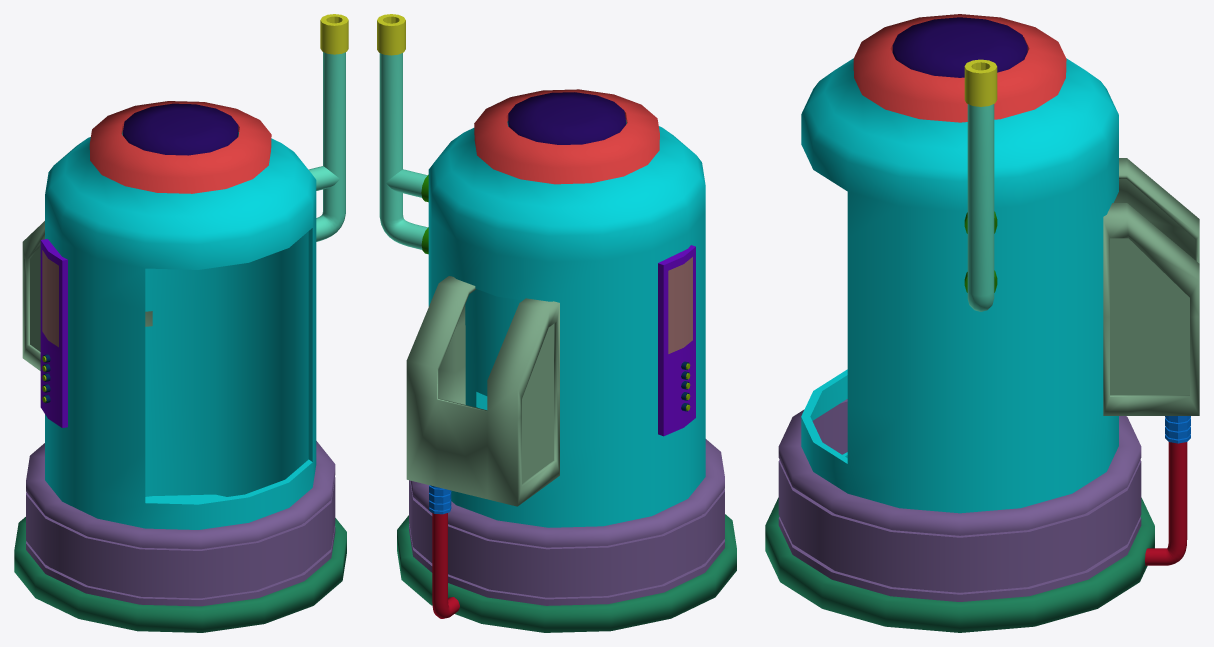
Rendered from DrugMaker2_low.FBX.
The picture shows the model from 3 angles, left to right: view 1: azimuth 30°, elevation 25°; view 2: azimuth 150°, elevation 25°; view 3: azimuth 270°, elevation 25°; orthographic projection. The views are drawn at different scales.
Visible parts, largest first — view 1: Object019; view 2: Object019; view 3: Object019.
Boxes of the visible parts, x1=… form: Object019: x1=14, y1=14, x2=348, y2=632; Object019: x1=377, y1=14, x2=736, y2=632; Object019: x1=765, y1=14, x2=1199, y2=632.
Bounding box in the file's own units: 160 × 236 × 161.
